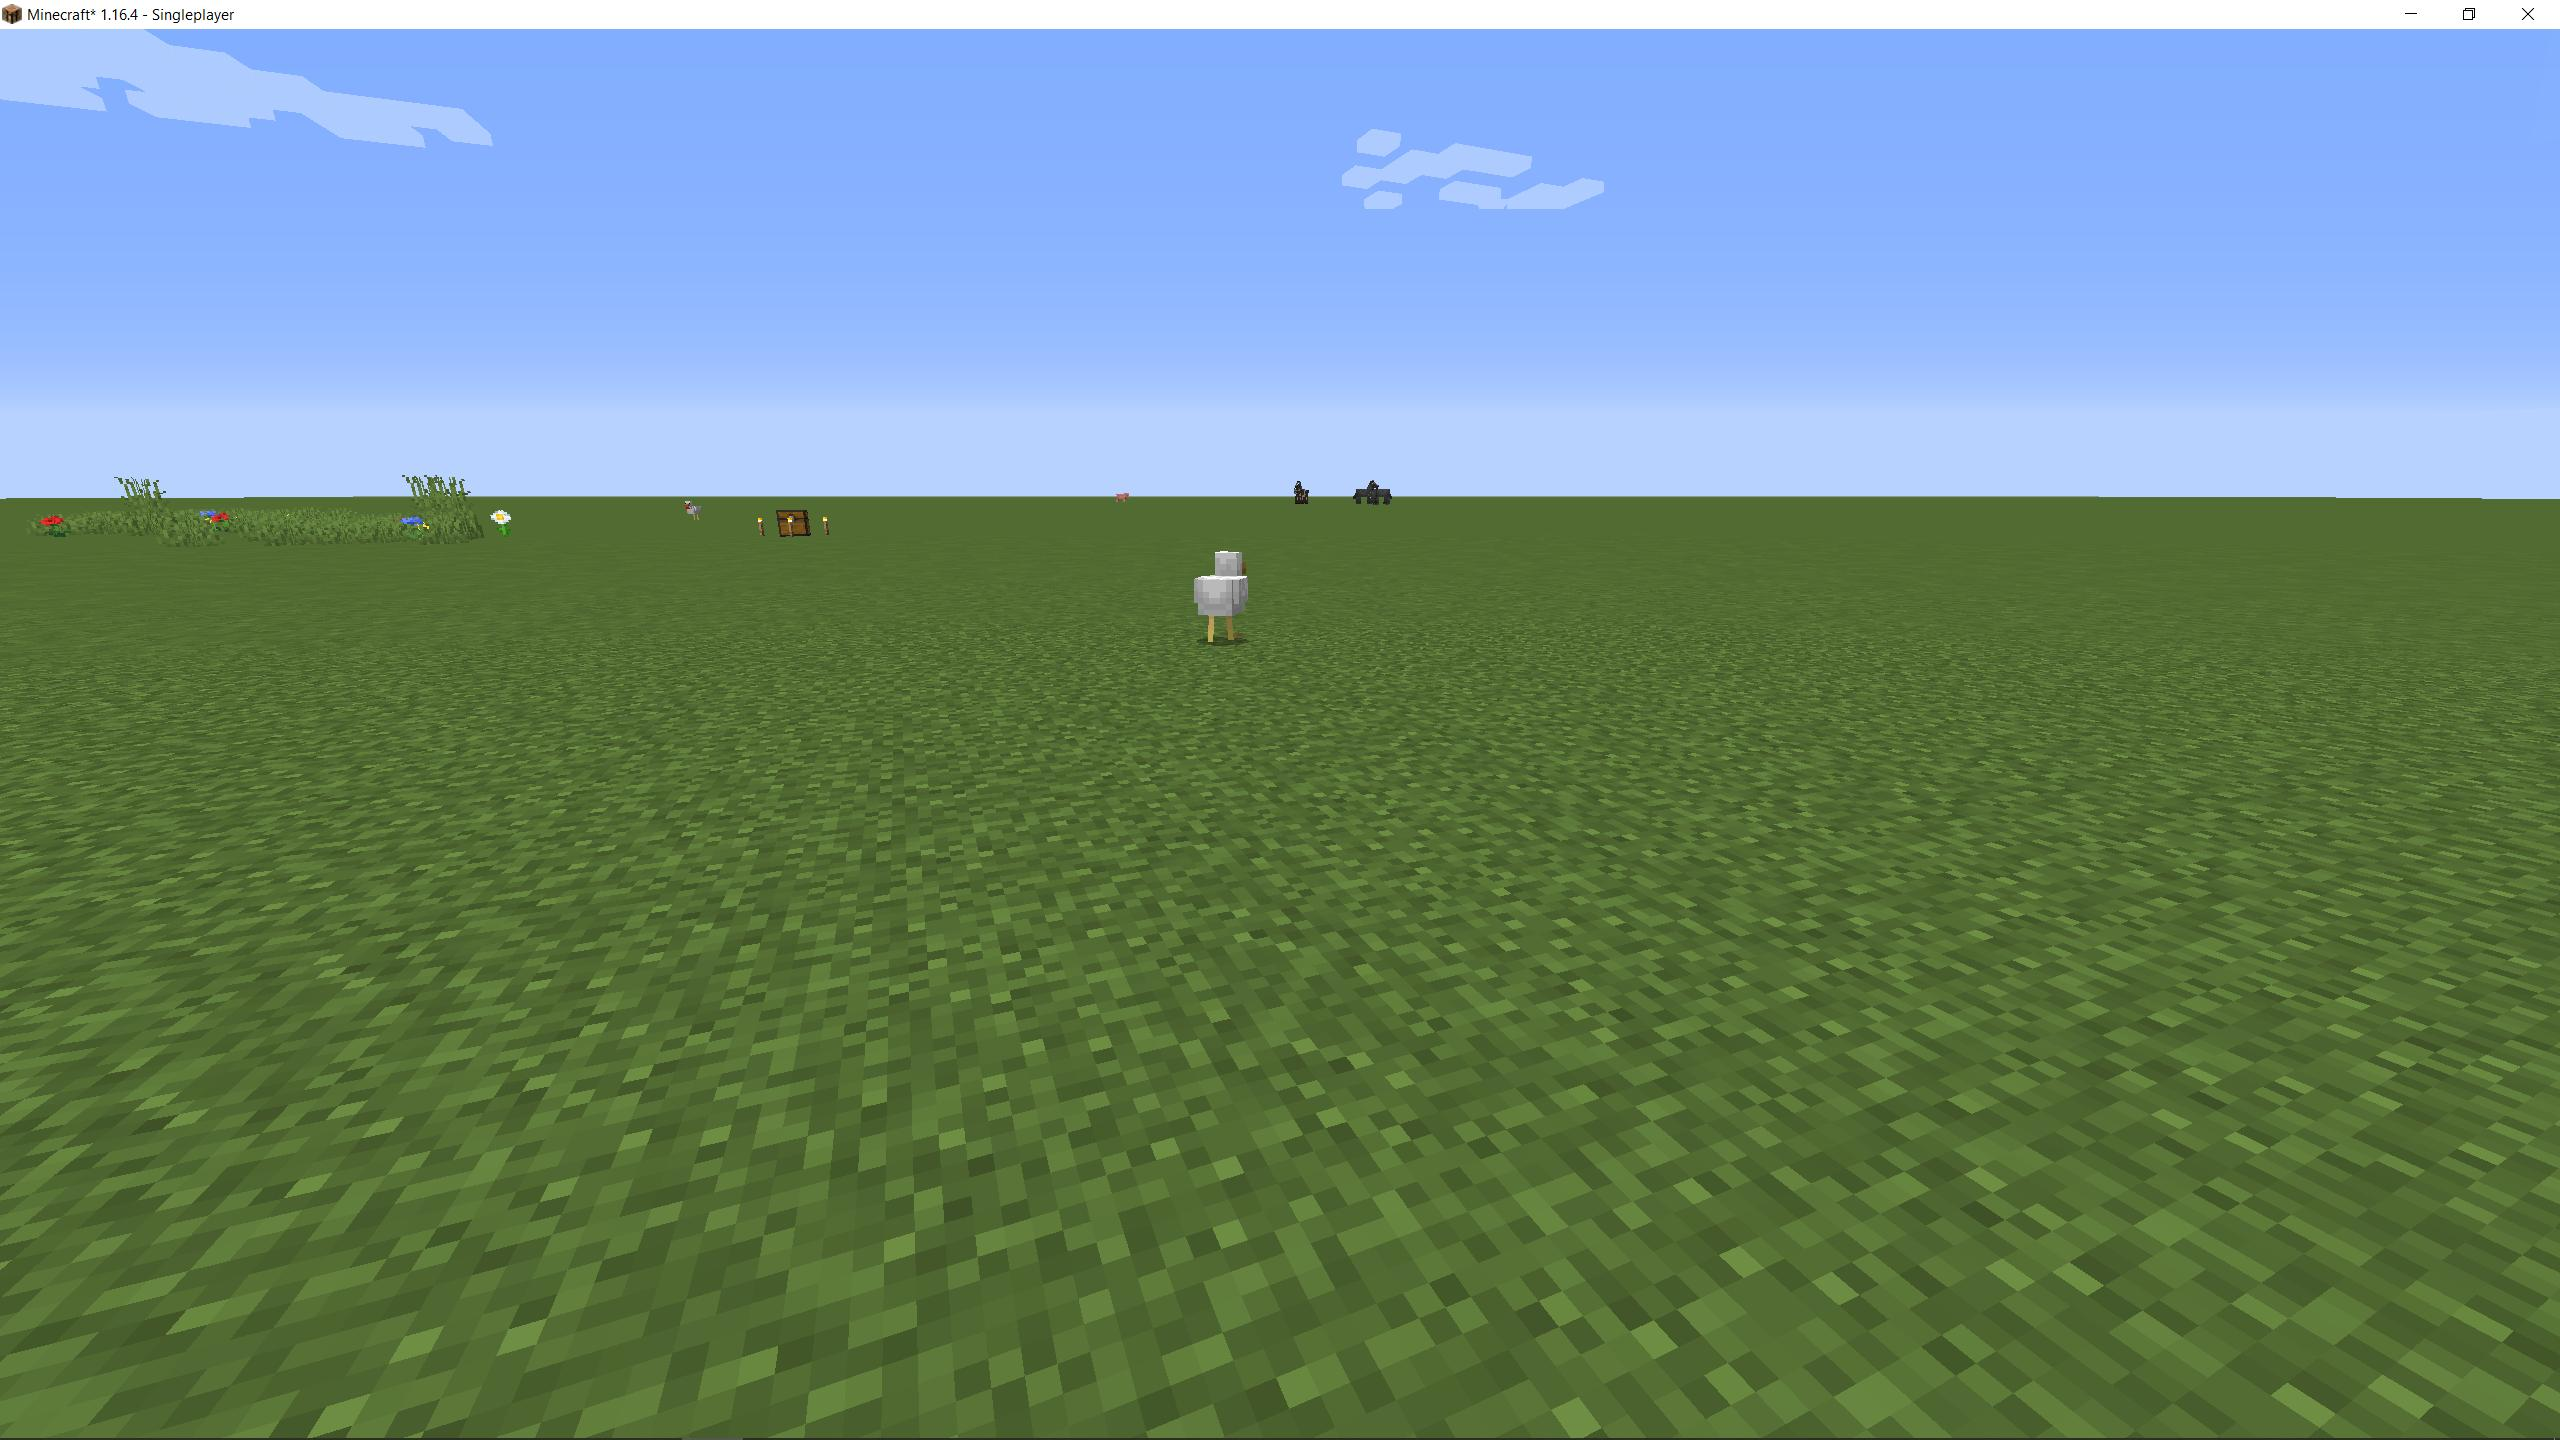chicken: (1187, 535, 1261, 649)
